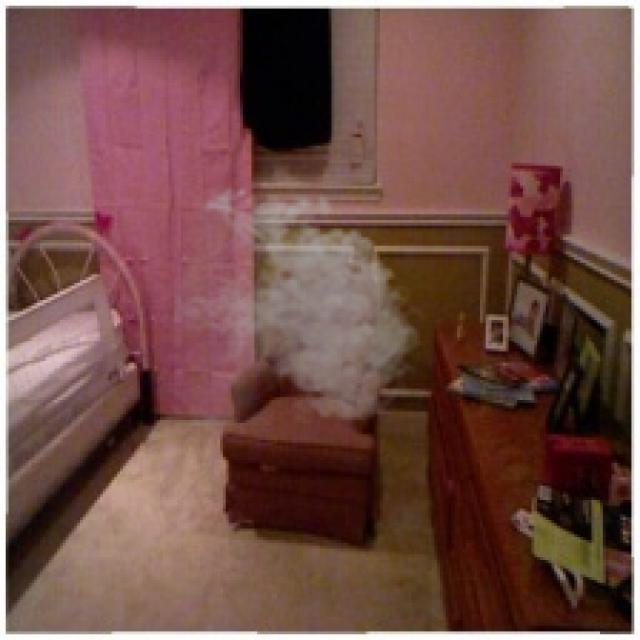smoke: (174, 180, 429, 429)
